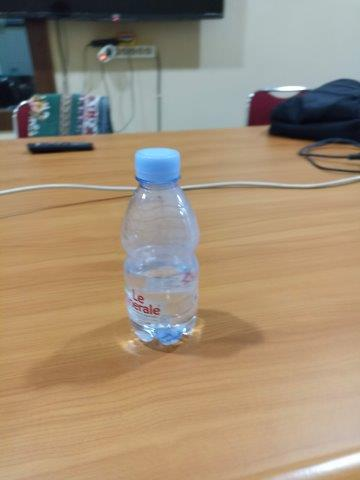botolplastik: (121, 147, 200, 345)
